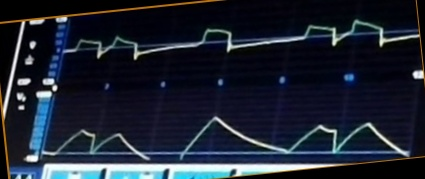Double_Triggering Flow: (66, 16, 418, 65)
Double_Triggering Volume: (49, 110, 406, 159)
